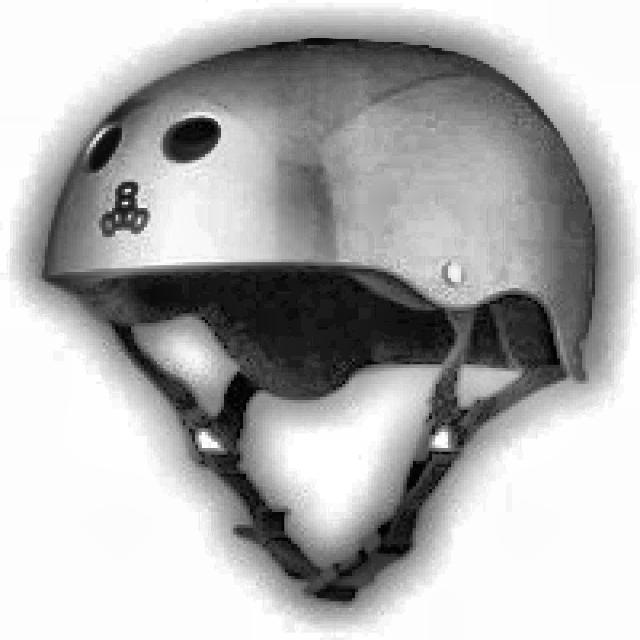Helmet: (39, 32, 605, 617)
